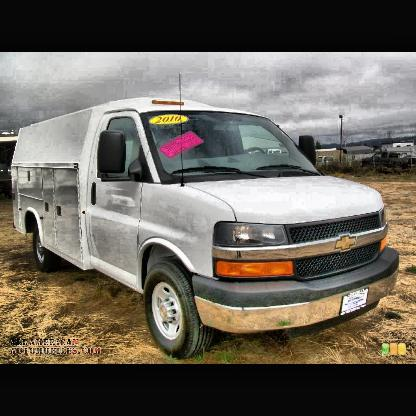Chevrolet Express Van 2007: (11, 73, 405, 364)
